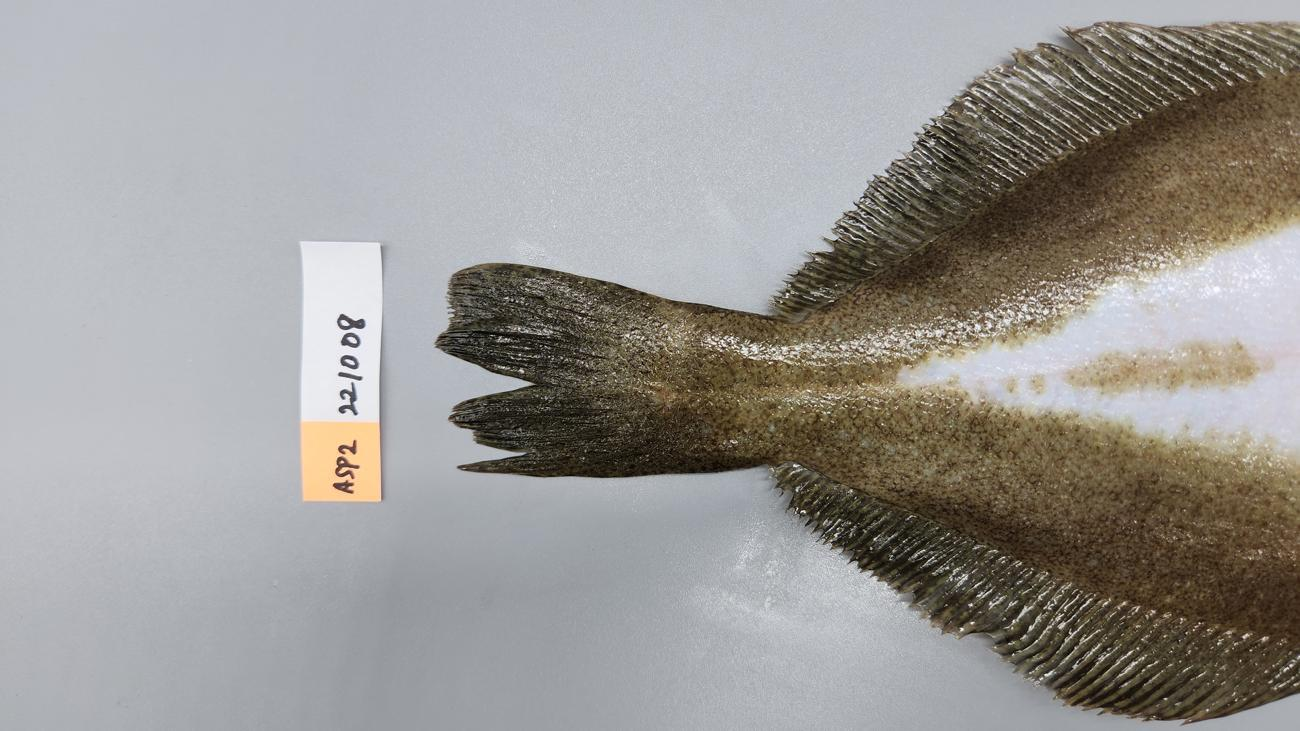SPDYH: (885, 470, 1299, 647)
